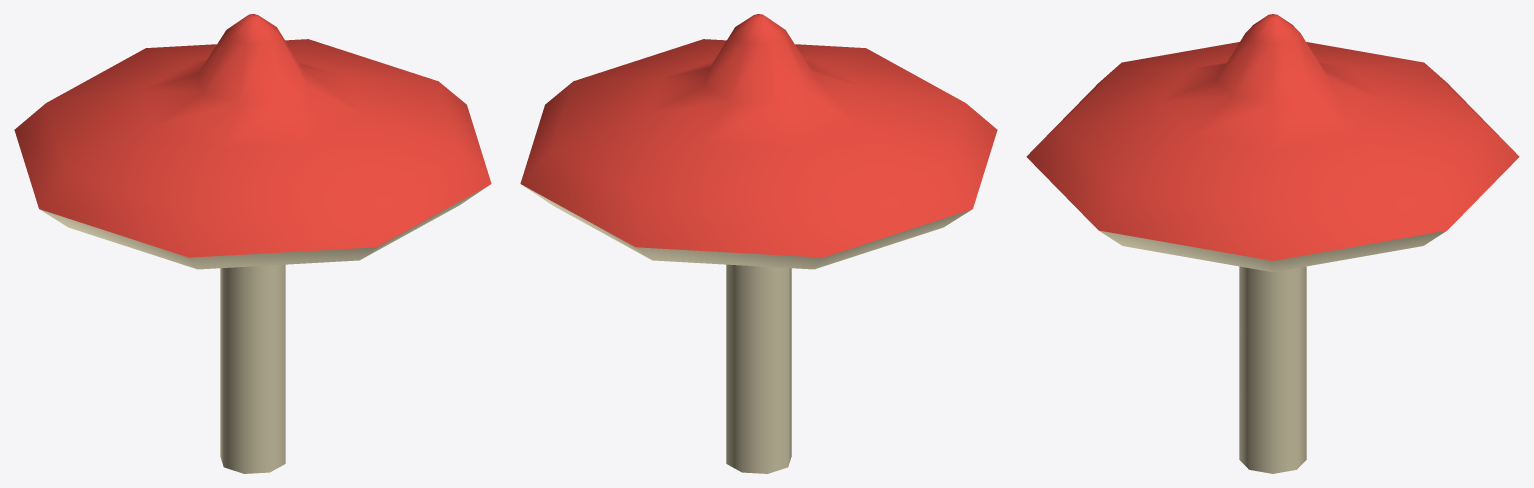
File: mushroom_straight.fbx
3 renders of one model, left to right at view 1: azimuth 30°, elevation 25°; view 2: azimuth 150°, elevation 25°; view 3: azimuth 270°, elevation 25°, orthographic.
Parts seen in each view (by area): view 1: mushroom.straight; view 2: mushroom.straight; view 3: mushroom.straight.
Boxes of the visible parts, left/top/right/bottom form: mushroom.straight: left=14, top=14, right=491, bottom=473; mushroom.straight: left=520, top=14, right=997, bottom=473; mushroom.straight: left=1026, top=14, right=1519, bottom=473.
Bounding box in the file's own units: 175 × 174 × 175.
